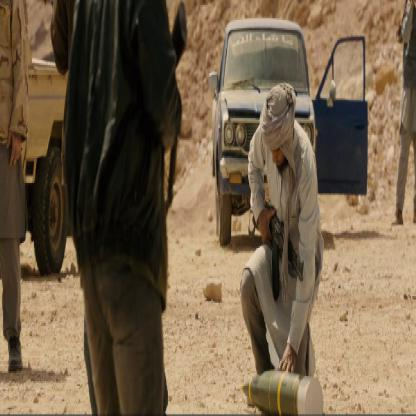Guns: (247, 193, 305, 305)
